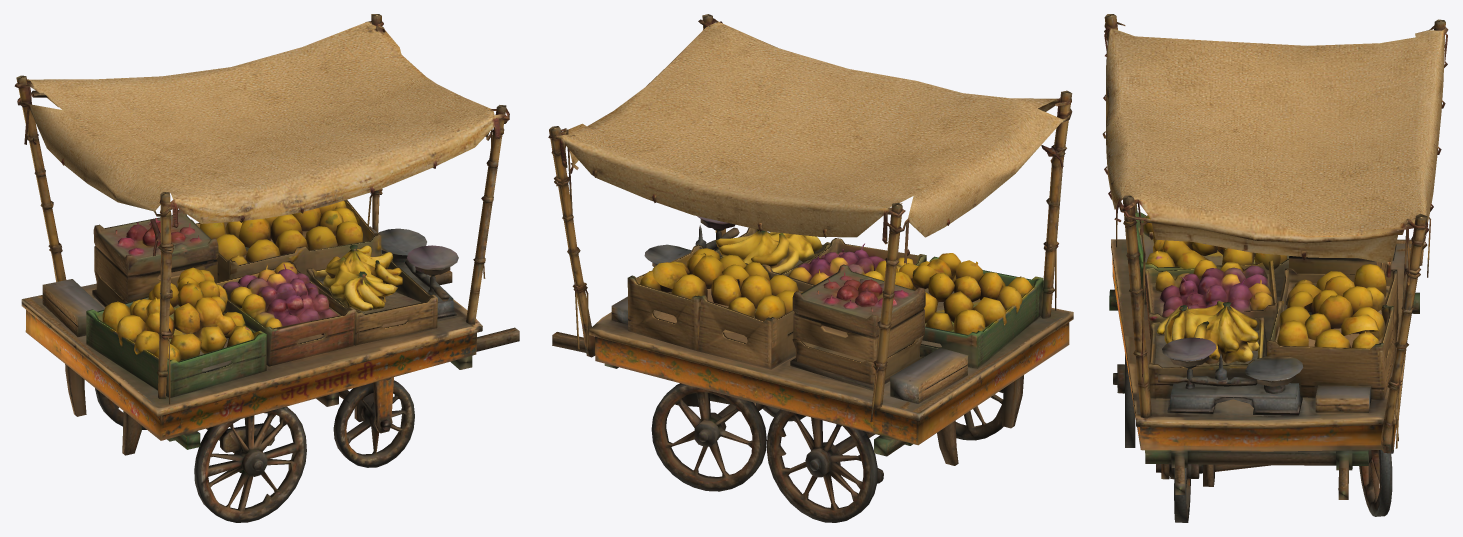
File: fruit+cart+3d+model.glb
The picture shows the model from 3 angles, left to right: view 1: azimuth 30°, elevation 25°; view 2: azimuth 150°, elevation 25°; view 3: azimuth 270°, elevation 25°; orthographic projection. The views are drawn at different scales.
Visible parts, largest first — view 1: tripo_node_6aa5f791-6c17-4ca5-aab0-10d41cfecb79; view 2: tripo_node_6aa5f791-6c17-4ca5-aab0-10d41cfecb79; view 3: tripo_node_6aa5f791-6c17-4ca5-aab0-10d41cfecb79.
Part boxes in pixels (x1,y1,x2,y2): tripo_node_6aa5f791-6c17-4ca5-aab0-10d41cfecb79: (14, 14, 519, 522); tripo_node_6aa5f791-6c17-4ca5-aab0-10d41cfecb79: (548, 14, 1073, 522); tripo_node_6aa5f791-6c17-4ca5-aab0-10d41cfecb79: (1102, 14, 1448, 522).
Size of the model in its own units: 0.9995 by 0.8462 by 0.7017.
Materials: 1 (1 with a texture image).
